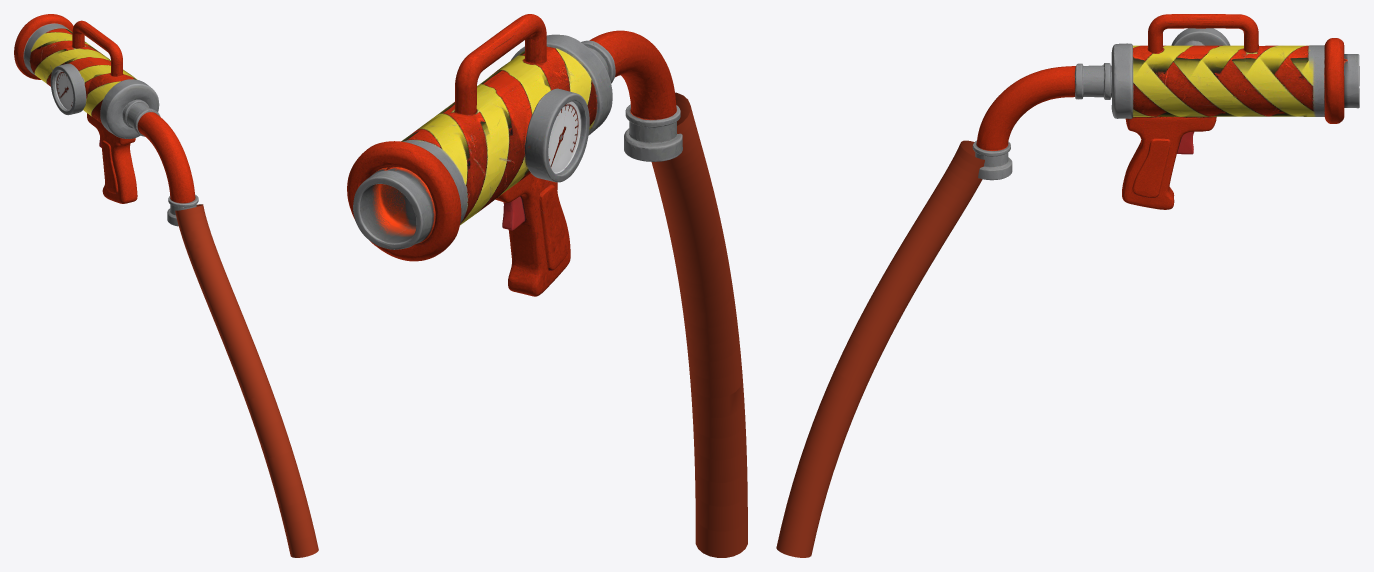
File: lancia_c1_antincendio.gltf
3 views of the same model, side by side, from view 1: azimuth 30°, elevation 25°; view 2: azimuth 150°, elevation 25°; view 3: azimuth 270°, elevation 25° (orthographic). The views are drawn at different scales.
Parts seen in each view (by area): view 1: Lancia, TuboZaino; view 2: Lancia, TuboZaino; view 3: Lancia, TuboZaino.
Boxes of the visible parts, box(x1,y1,x2,y2) form: Lancia: box(14, 14, 198, 226); TuboZaino: box(175, 204, 318, 557); Lancia: box(347, 14, 682, 296); TuboZaino: box(651, 92, 747, 557); Lancia: box(972, 14, 1359, 209); TuboZaino: box(776, 140, 984, 557).
Bounding box in the file's own units: 0.3029 × 1.31 × 1.35.
2 materials, 1 textured.
